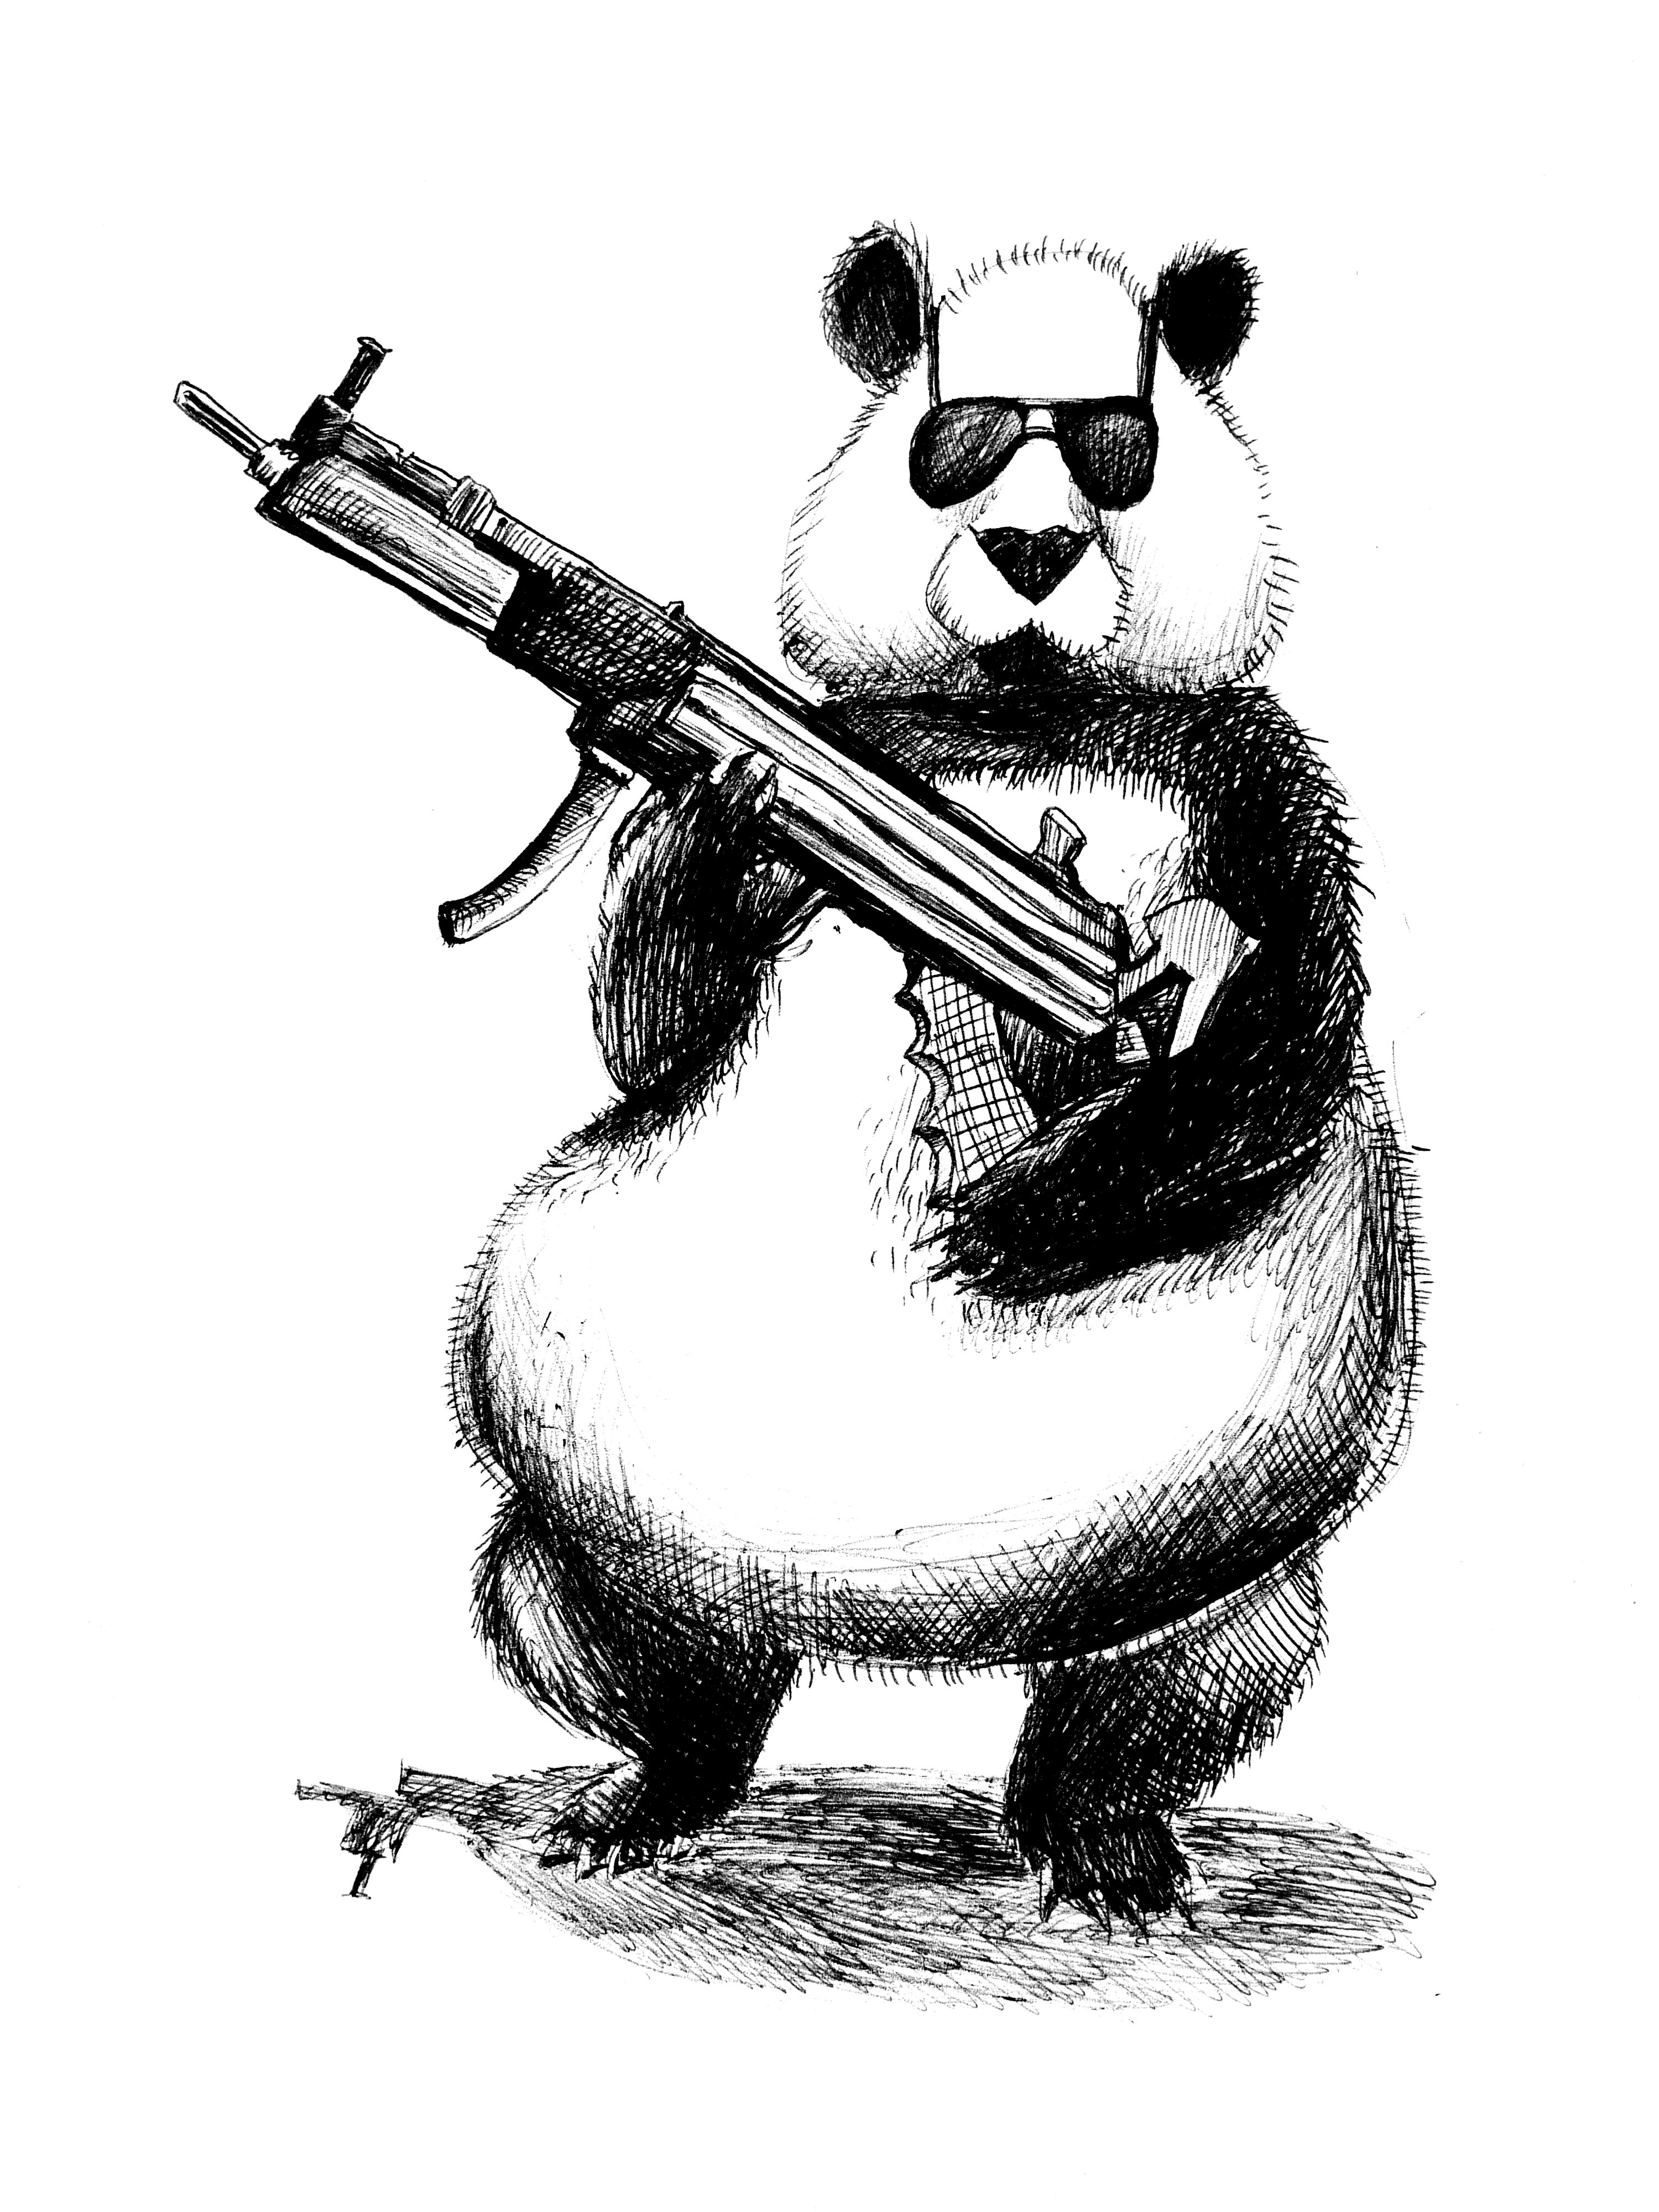panda: (112, 134, 1624, 2050)
